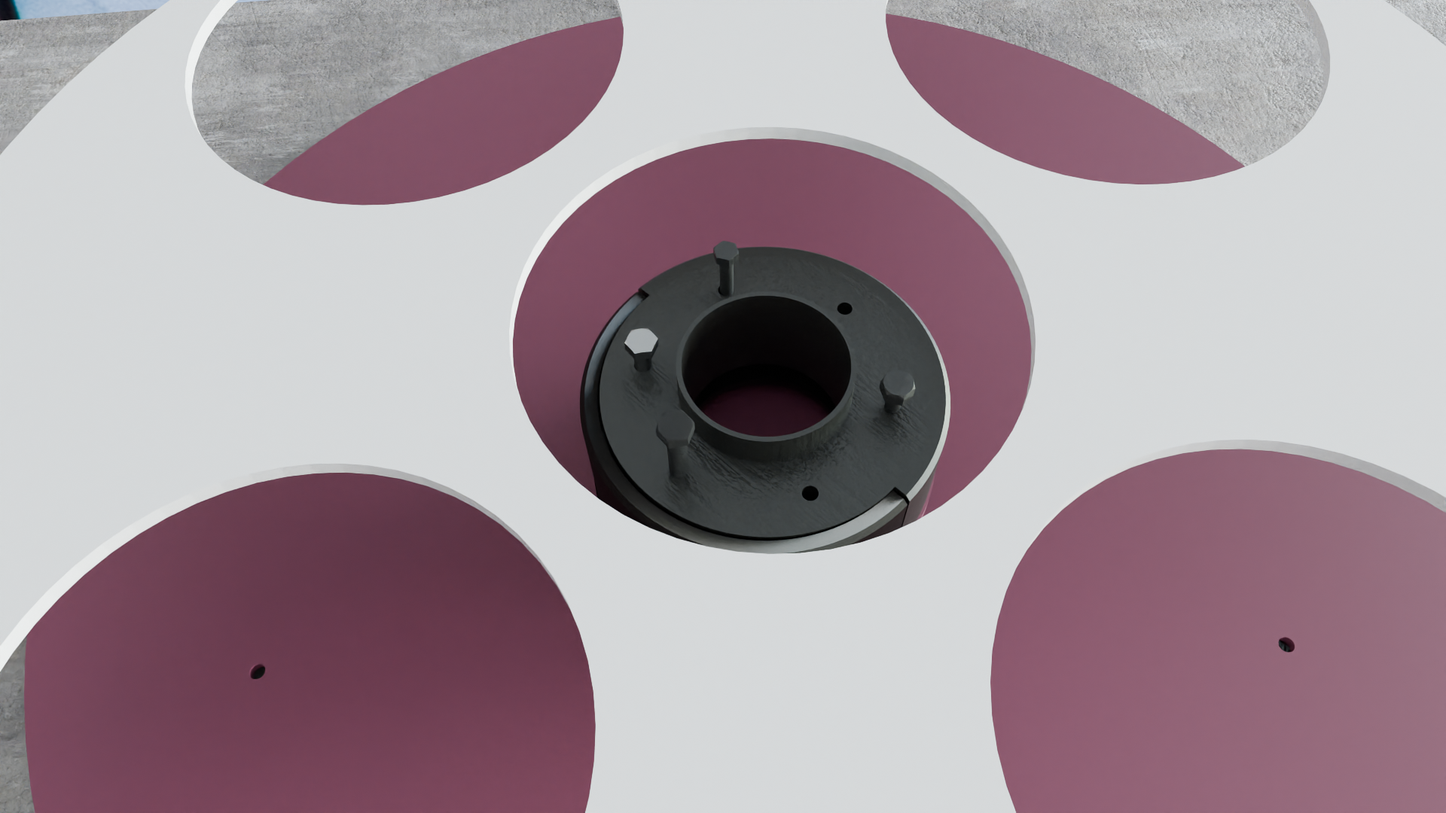bolt: (656, 410, 694, 442), (881, 370, 915, 399), (624, 328, 657, 354), (713, 241, 739, 261)
